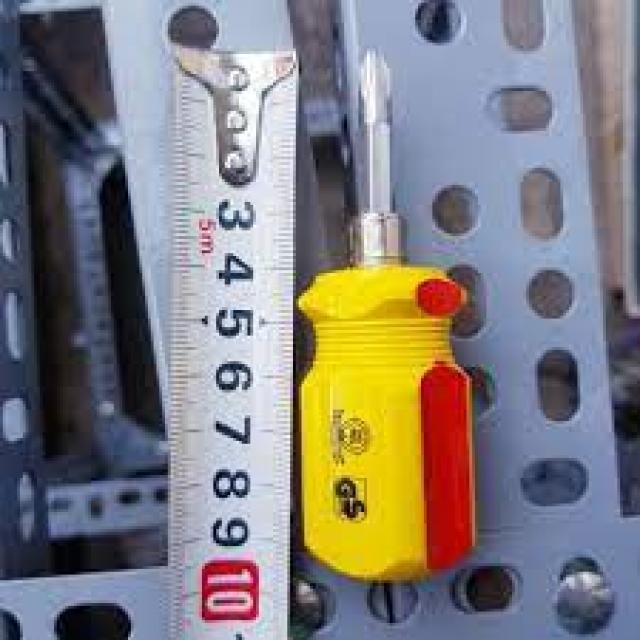screwdriver: (294, 42, 480, 584)
